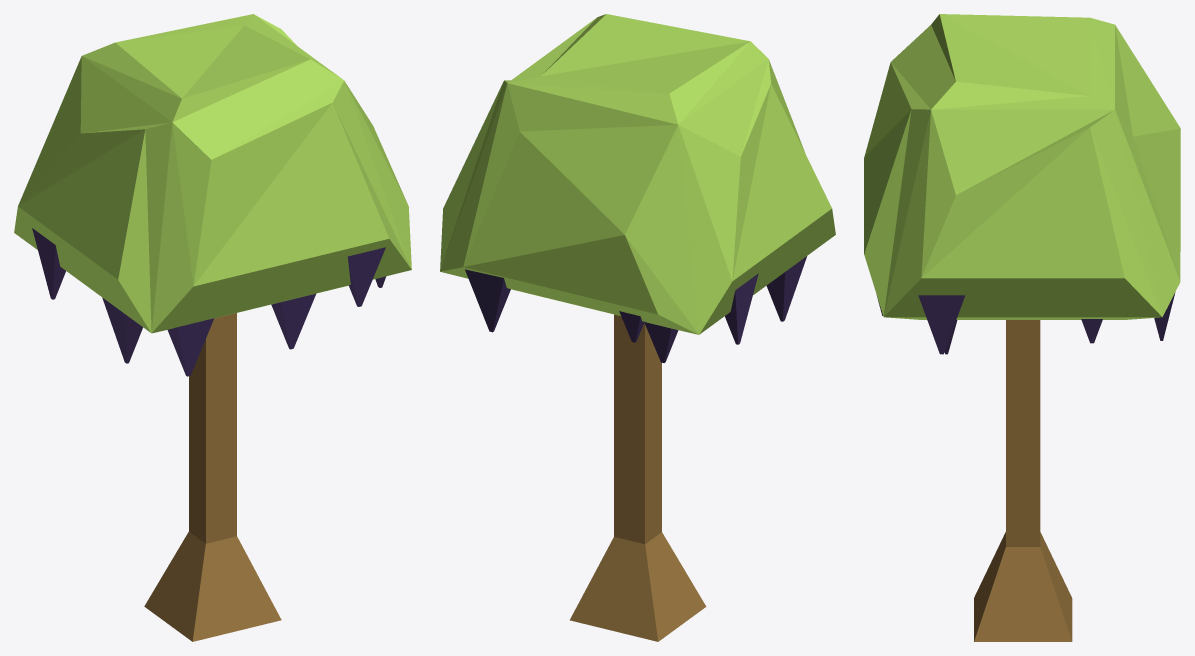
The model's file is tree2.fbx.
3 renders of one model, left to right at view 1: azimuth 30°, elevation 25°; view 2: azimuth 150°, elevation 25°; view 3: azimuth 270°, elevation 25°, orthographic.
Visible parts, largest first — view 1: Cube_23; view 2: Cube_23; view 3: Cube_23.
Part boxes in pixels (x1,y1,x2,y2): Cube_23: (14, 14, 411, 641); Cube_23: (440, 14, 835, 641); Cube_23: (864, 14, 1180, 641).
Size of the model in its own units: 157 by 290 by 146.
